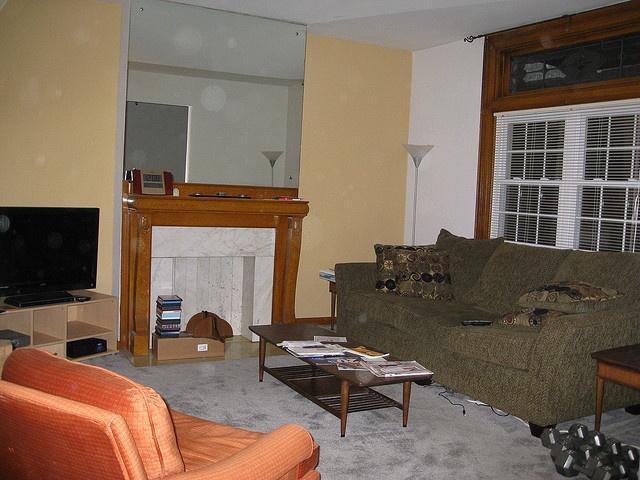AIO PC-Monitor-TV: (0, 205, 99, 307)
Meja: (246, 321, 432, 436)
